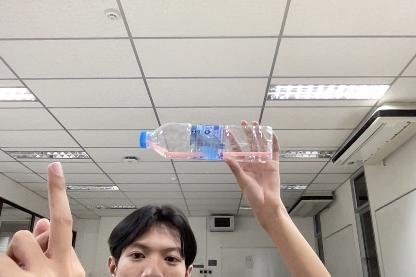Plastic Bottle: (136, 116, 280, 167)
